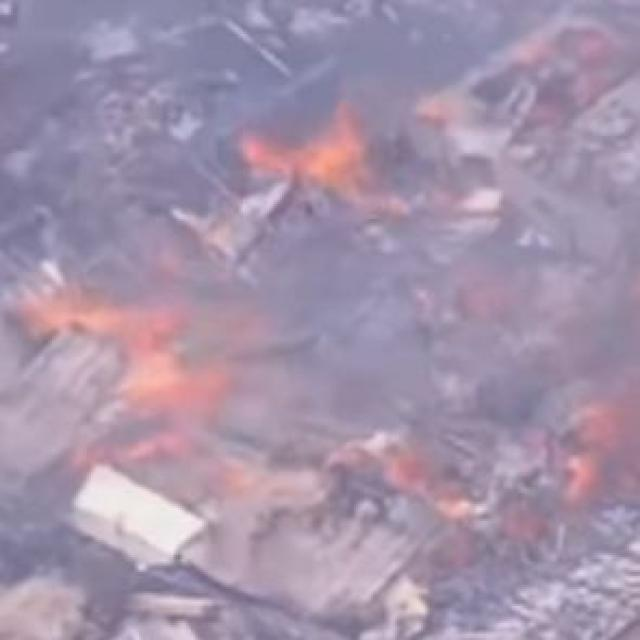Fire: (231, 107, 395, 207)
Smoke: (92, 310, 279, 467)
